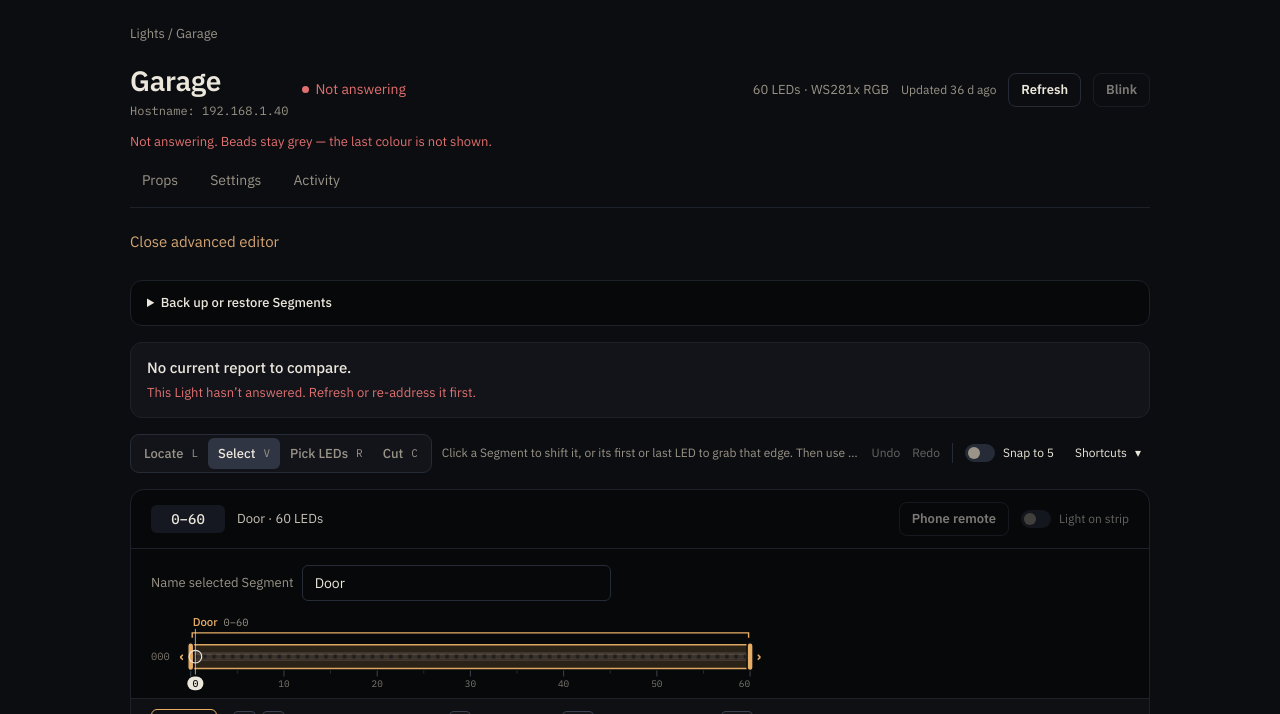
it: Light Activity › opens Activity on a Light without starting another Inspect
Click the button "Activity".
click(317, 185)  # box [281,163,352,207]
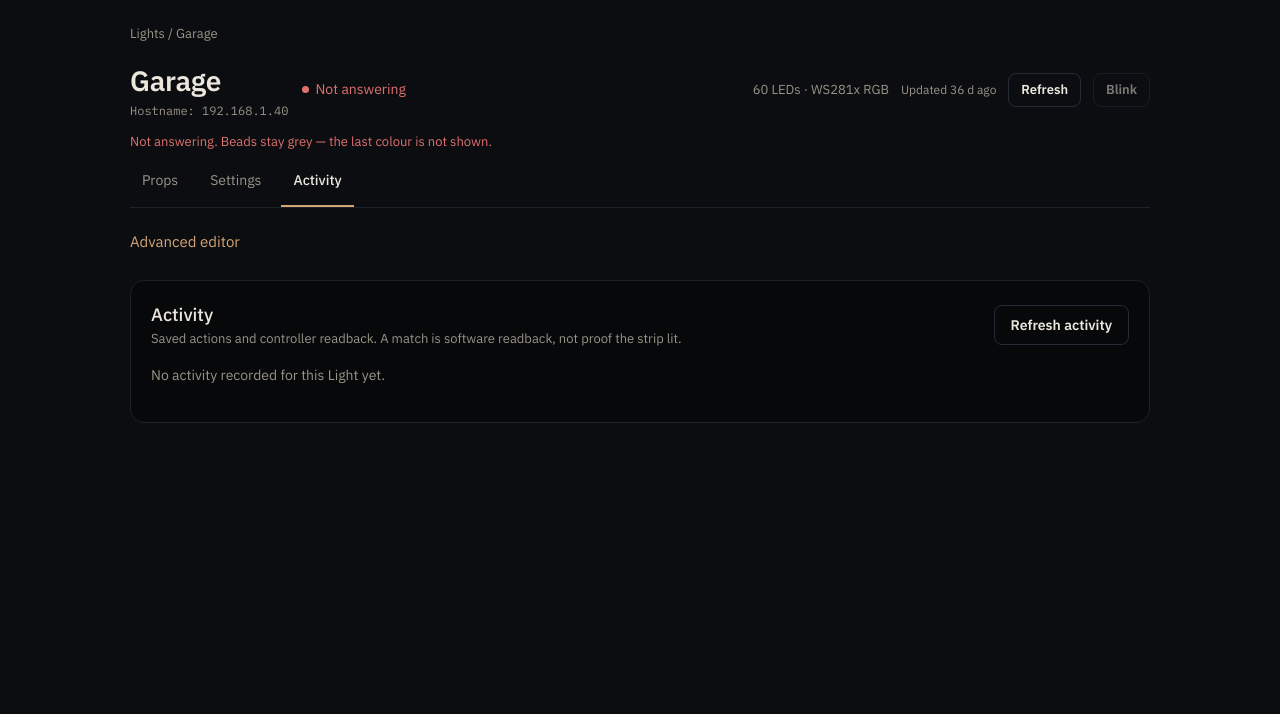
Check: the text "No activity recorded for this Light yet." is shown, box [151,366,385,384]
